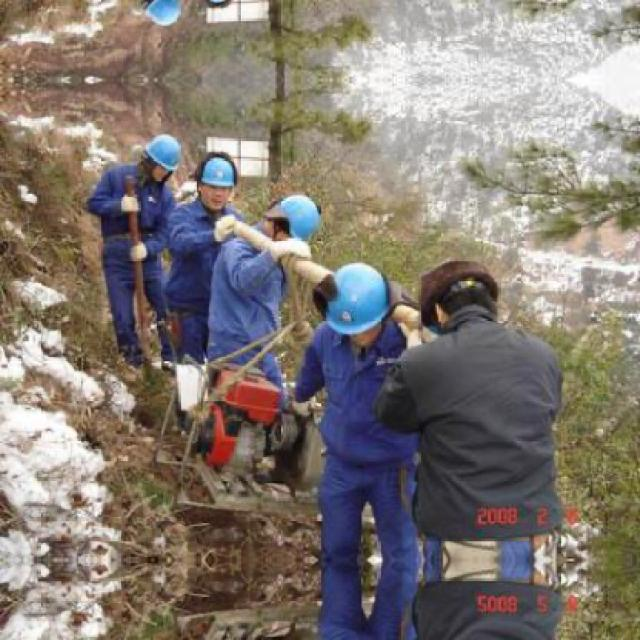helmet: (420, 260, 508, 332), (324, 260, 390, 348), (268, 192, 320, 246), (196, 152, 238, 211), (142, 136, 183, 187), (140, 0, 183, 26)
